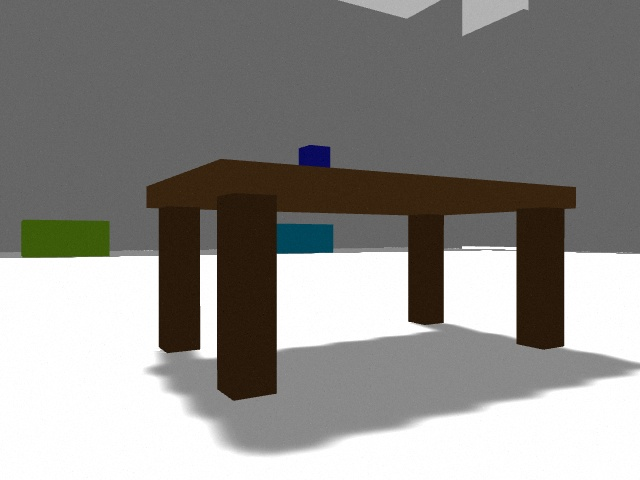blue_cube: (299, 145, 330, 167)
blue_drop_zone: (277, 224, 333, 254)
green_drop_zone: (21, 220, 110, 258)
